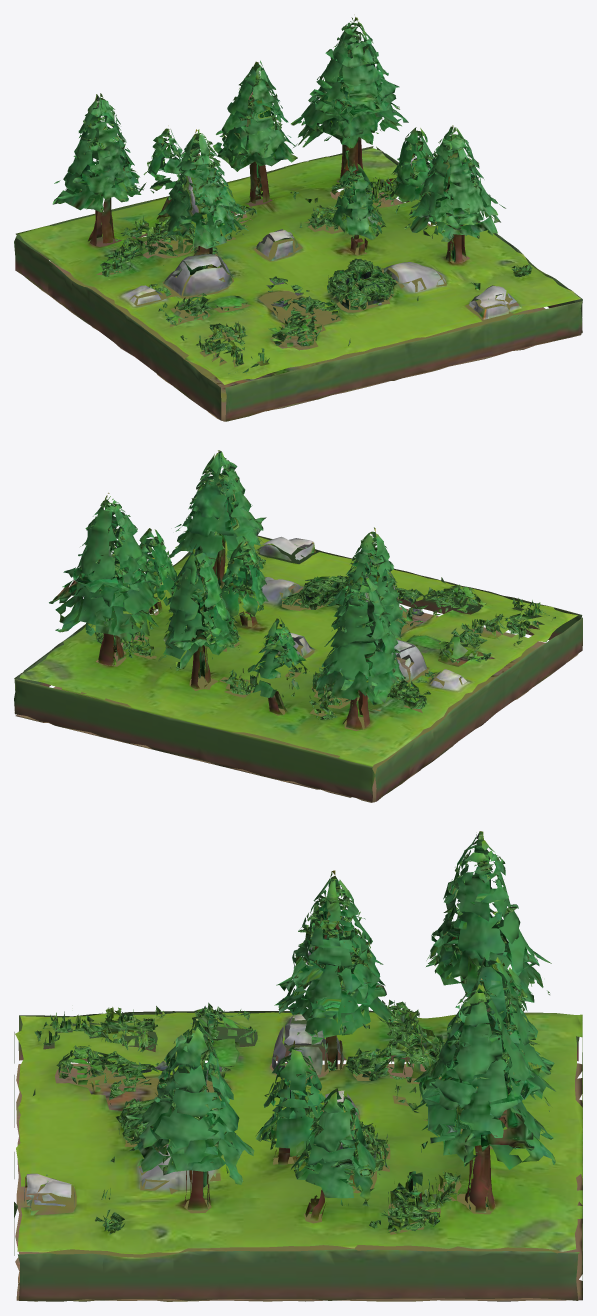
The model's file is pine_grove_opt.glb.
3 renders of one model, top to bottom at view 1: azimuth 30°, elevation 25°; view 2: azimuth 150°, elevation 25°; view 3: azimuth 270°, elevation 25°, orthographic. The views are drawn at different scales.
Parts seen in each view (by area): view 1: pine_grove_opt; view 2: pine_grove_opt; view 3: pine_grove_opt.
Boxes of the visible parts, x1,y1,x2,y2 form: pine_grove_opt: [14, 14, 582, 421]; pine_grove_opt: [14, 450, 582, 802]; pine_grove_opt: [14, 831, 582, 1301].
Bounding box in the file's own units: 2 × 1.11 × 2.
Materials: 1 (1 with a texture image).
